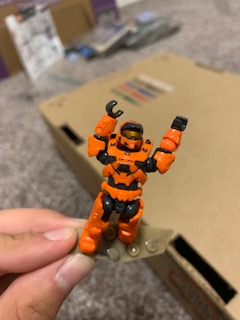spartan: (77, 99, 188, 254)
up: (86, 100, 190, 189)
